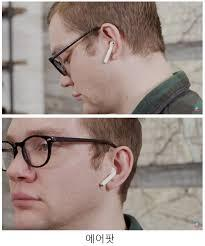earphone: (101, 38, 119, 65), (100, 165, 119, 190)
